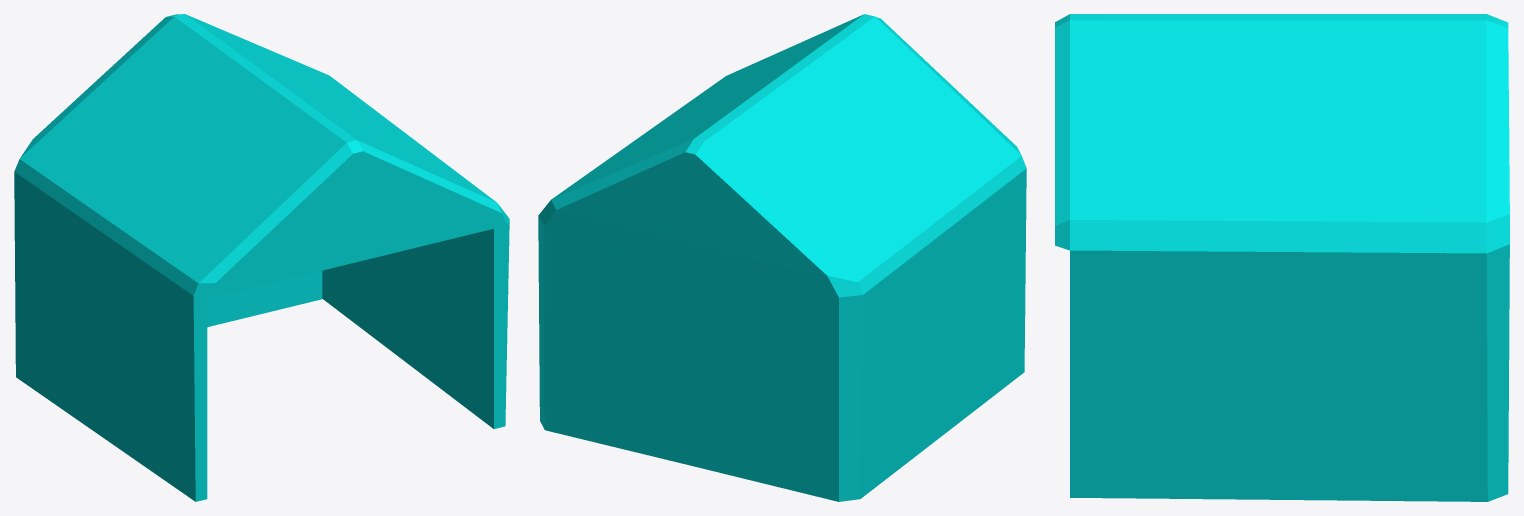
Rendered from SM_Prop_Tent_02_Collision.fbx.
The picture shows the model from 3 angles, left to right: view 1: azimuth 30°, elevation 25°; view 2: azimuth 150°, elevation 25°; view 3: azimuth 270°, elevation 25°; orthographic projection. The views are drawn at different scales.
Parts seen in each view (by area): view 1: SM_Prop_Tent_02_Collision; view 2: SM_Prop_Tent_02_Collision; view 3: SM_Prop_Tent_02_Collision.
Part boxes in pixels (x1,y1,x2,y2): SM_Prop_Tent_02_Collision: (14, 14, 509, 501); SM_Prop_Tent_02_Collision: (538, 14, 1026, 501); SM_Prop_Tent_02_Collision: (1055, 14, 1509, 501).
Bounding box in the file's own units: 389 × 365 × 386.
